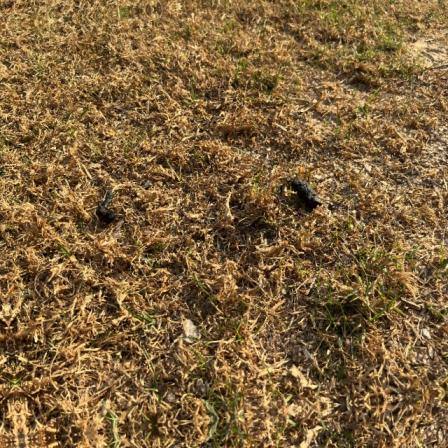dog-poop: (88, 189, 126, 229), (286, 174, 324, 212)
